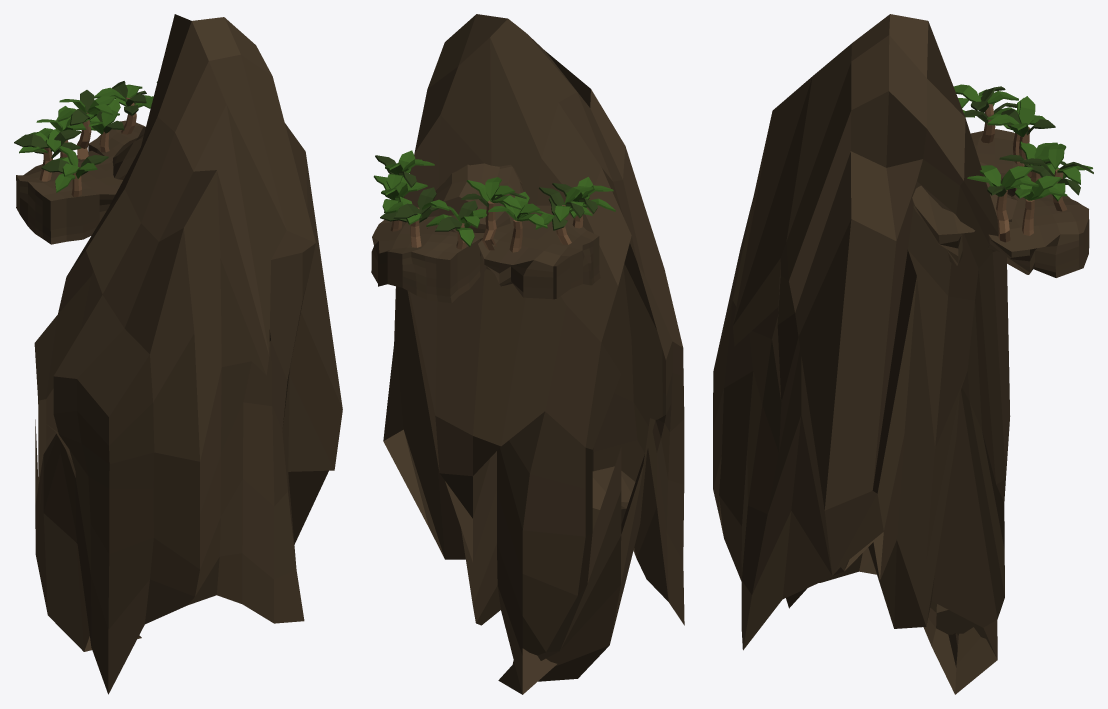
The model's file is Island3.fbx.
3 renders of one model, left to right at view 1: azimuth 30°, elevation 25°; view 2: azimuth 150°, elevation 25°; view 3: azimuth 270°, elevation 25°, orthographic. The views are drawn at different scales.
Visible parts, largest first — view 1: Cylinder.011; view 2: Cylinder.011; view 3: Cylinder.011.
Boxes of the visible parts, box(x1,y1,x2,y2) form: Cylinder.011: box(14, 14, 342, 694); Cylinder.011: box(371, 14, 684, 694); Cylinder.011: box(713, 14, 1093, 694).
Bounding box in the file's own units: 7113 × 15549 × 7762.
